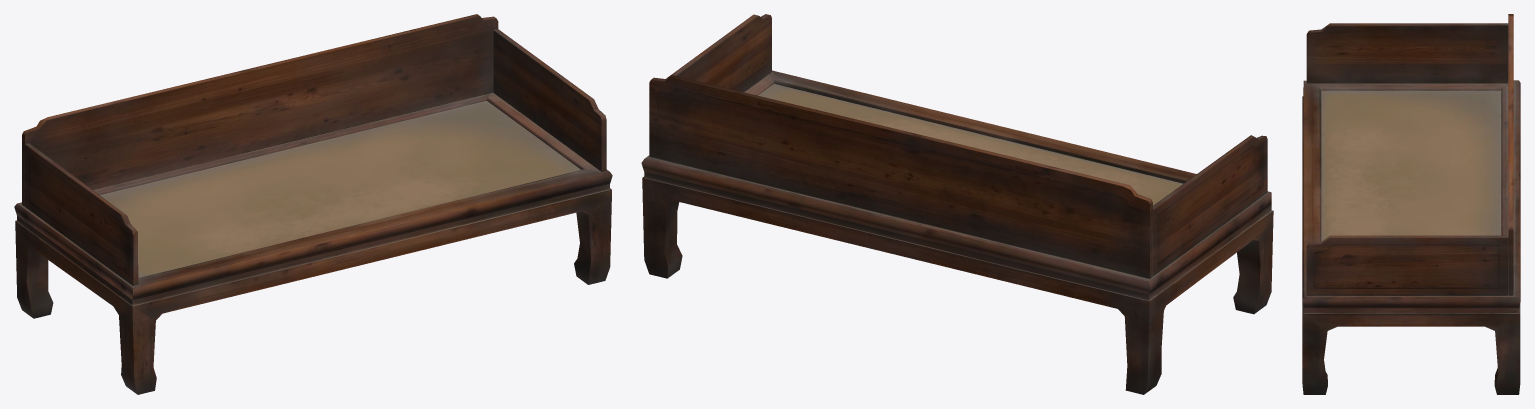
The model's file is chinese_sofa.glb.
The picture shows the model from 3 angles, left to right: view 1: azimuth 30°, elevation 25°; view 2: azimuth 150°, elevation 25°; view 3: azimuth 270°, elevation 25°; orthographic projection. The views are drawn at different scales.
Parts seen in each view (by area): view 1: chinese_sofa; view 2: chinese_sofa; view 3: chinese_sofa.
Part boxes in pixels (x1,y1,x2,y2): chinese_sofa: [14, 14, 612, 394]; chinese_sofa: [641, 14, 1273, 394]; chinese_sofa: [1302, 14, 1520, 394].
Size of the model in its own units: 2.28 by 0.8599 by 0.9675.
1 material, 1 textured.
